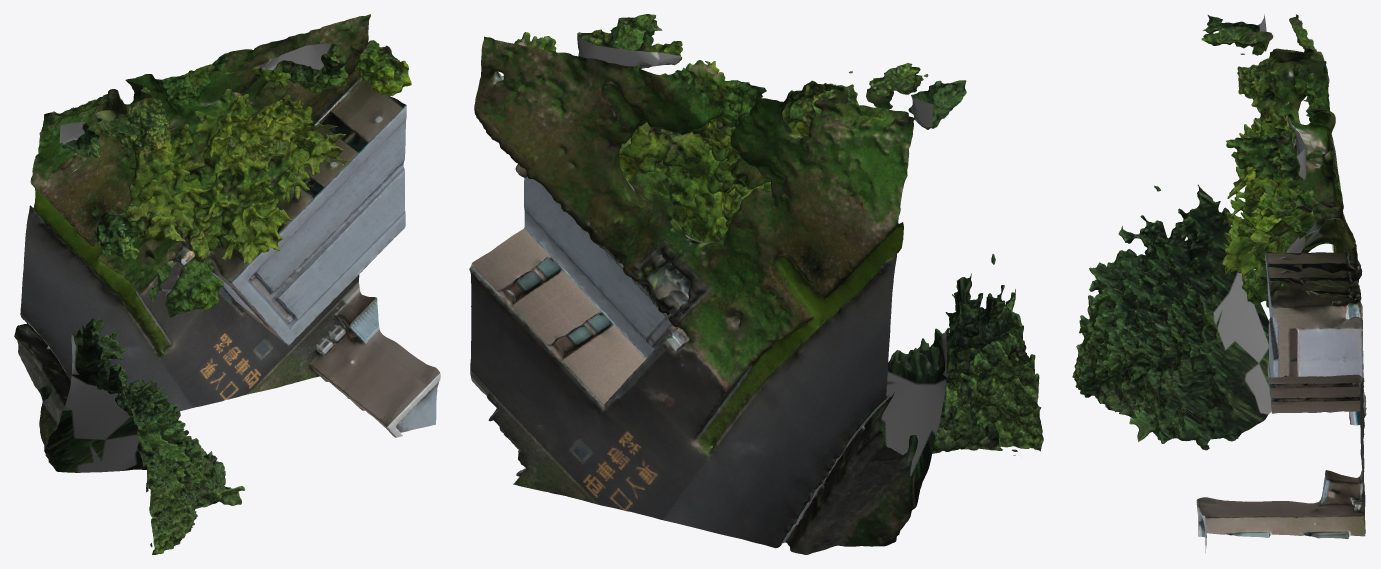
File: Tile_+004_+022.fbx
The picture shows the model from 3 angles, left to right: view 1: azimuth 30°, elevation 25°; view 2: azimuth 150°, elevation 25°; view 3: azimuth 270°, elevation 25°; orthographic projection. The views are drawn at different scales.
Parts seen in each view (by area): view 1: DefaultName; view 2: DefaultName; view 3: DefaultName.
Boxes of the visible parts, x1,y1,x2,y2 form: DefaultName: (14,14,440,554); DefaultName: (469,14,1043,554); DefaultName: (1072,14,1366,552).
Size of the model in its own units: 22.54 by 22.54 by 16.29.
